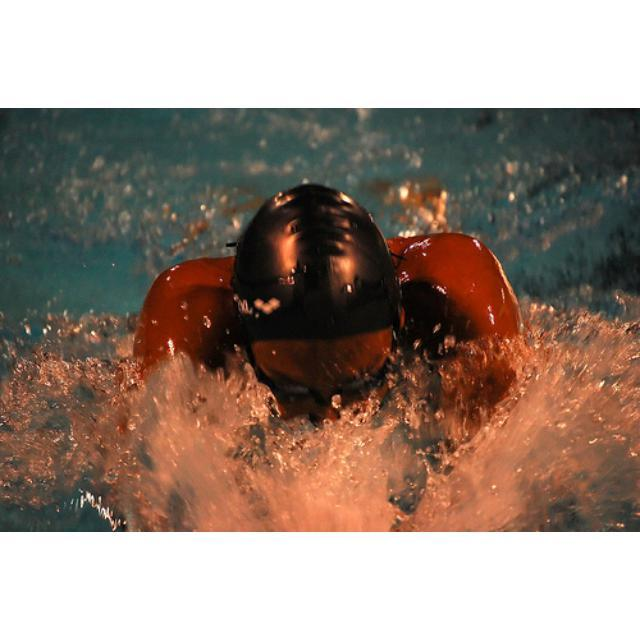human: (126, 182, 533, 475)
